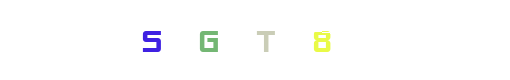8: (282, 0, 362, 80)
G: (169, 0, 249, 80)
S: (112, 0, 192, 80)
T: (215, 0, 295, 80)
